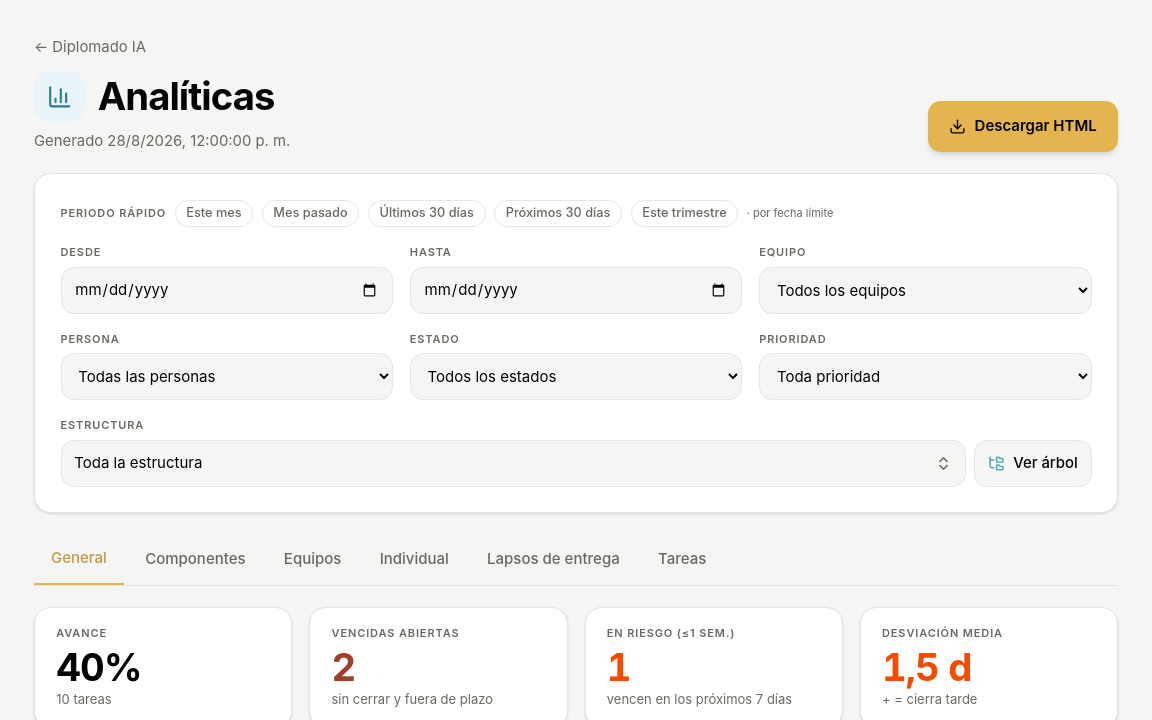
Test: ProjectReportPage (analítica) › la pestaña Lapsos separa producción y revisión
Click the tab "Lapsos de entrega".
click(553, 560)  # box [470,535,637,585]
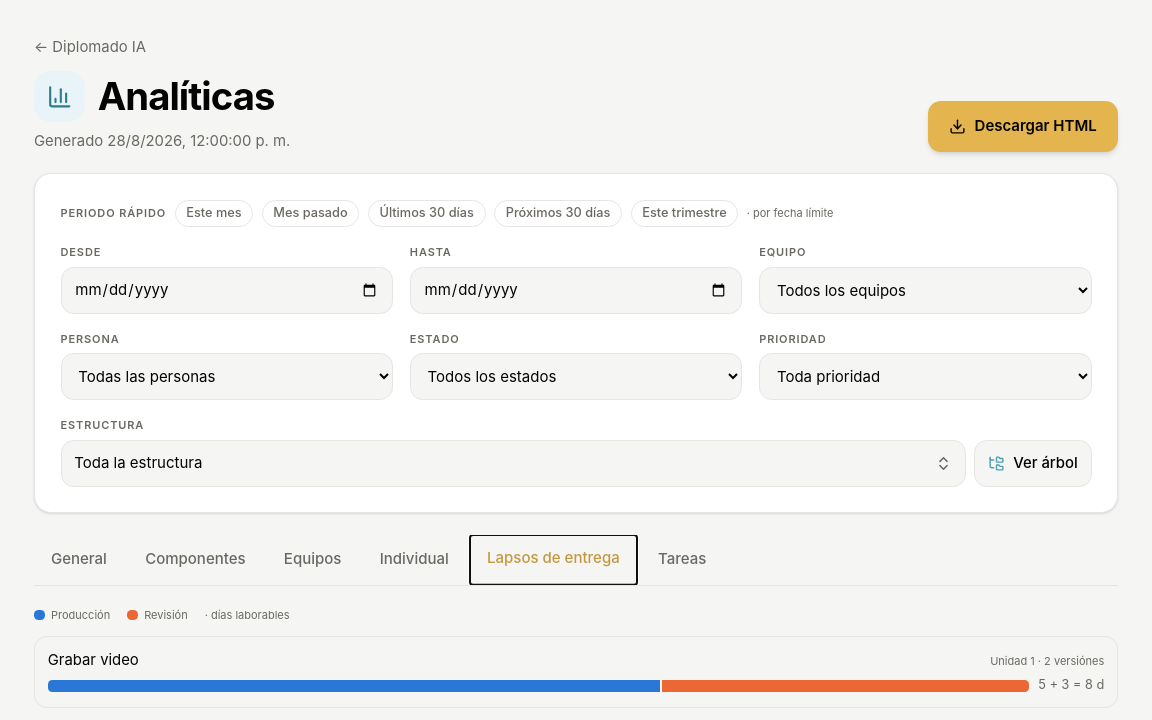
Expected: the text "Grabar video" is shown, [48,650,139,671]
Expected: the text "5 + 3 = 8 d" is shown, [1038,678,1104,694]
